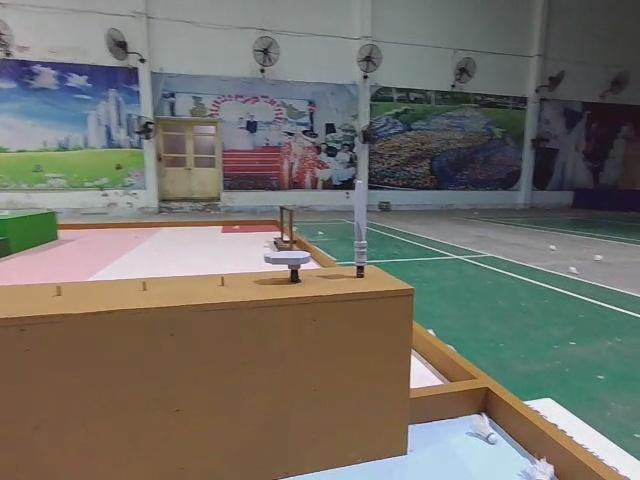Hand: (264, 245, 315, 283)
Sph: (349, 179, 370, 275)
